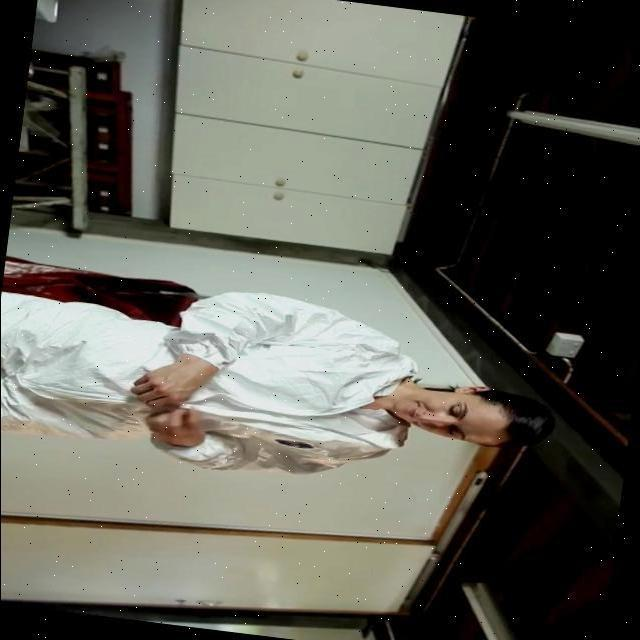no_apron: (128, 352, 208, 402), (153, 408, 213, 452)
no_hairnet: (393, 389, 447, 432)
